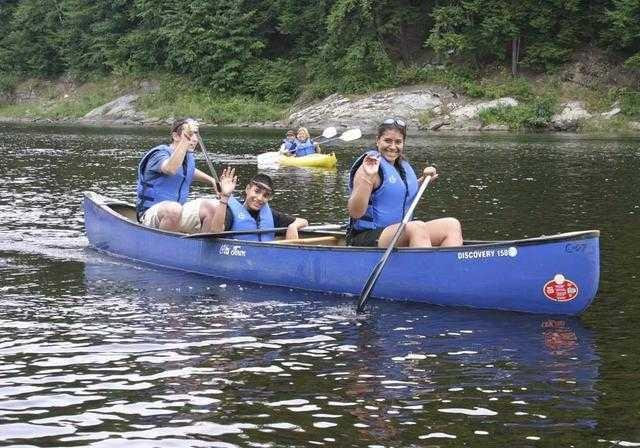kayak: (85, 198, 601, 316), (258, 151, 337, 170)
